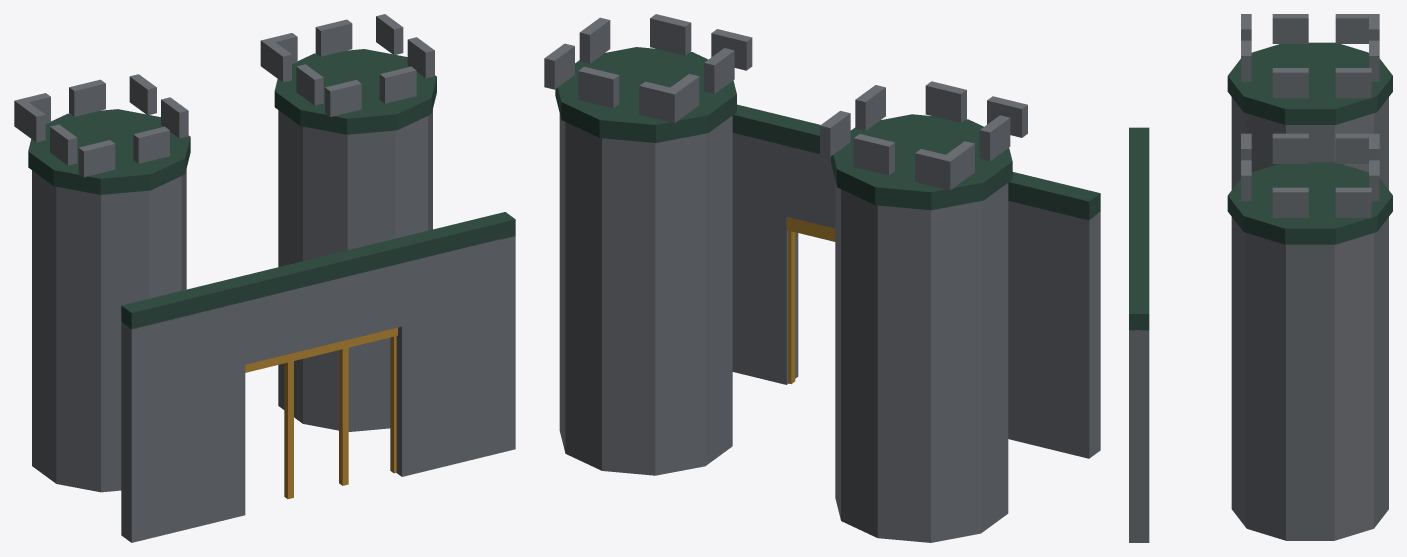
The model's file is GatehouseModule.fbx.
3 renders of one model, left to right at view 1: azimuth 30°, elevation 25°; view 2: azimuth 150°, elevation 25°; view 3: azimuth 270°, elevation 25°, orthographic. The views are drawn at different scales.
Parts seen in each view (by area): view 1: GatehouseModule; view 2: GatehouseModule; view 3: GatehouseModule.
Boxes of the visible parts, x1=… form: GatehouseModule: x1=14, y1=14, x2=515, y2=542; GatehouseModule: x1=544, y1=14, x2=1100, y2=542; GatehouseModule: x1=1129, y1=14, x2=1392, y2=542.
Bounding box in the file's own units: 1122 × 972 × 671.
Materials: 3 (3 with a texture image).
